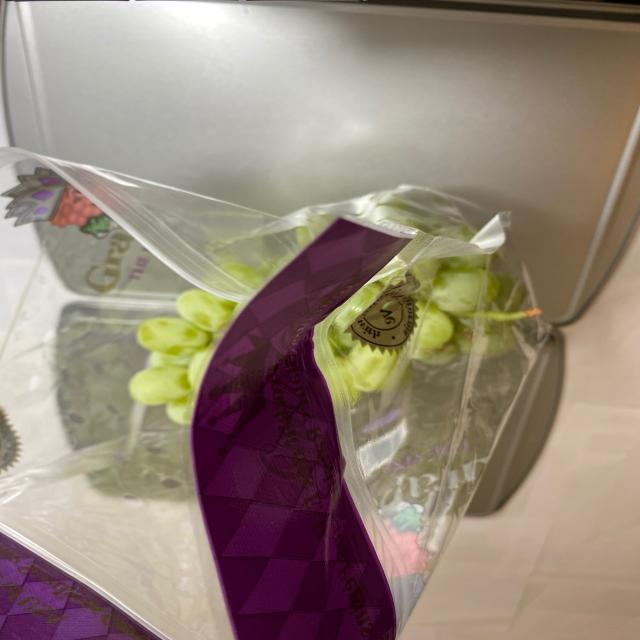grapes: (104, 238, 514, 438)
